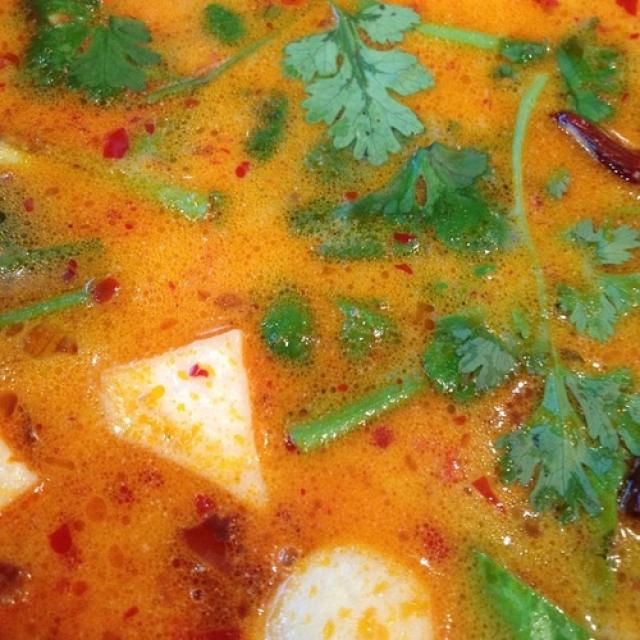汤锅炖物: (32, 21, 605, 604)
